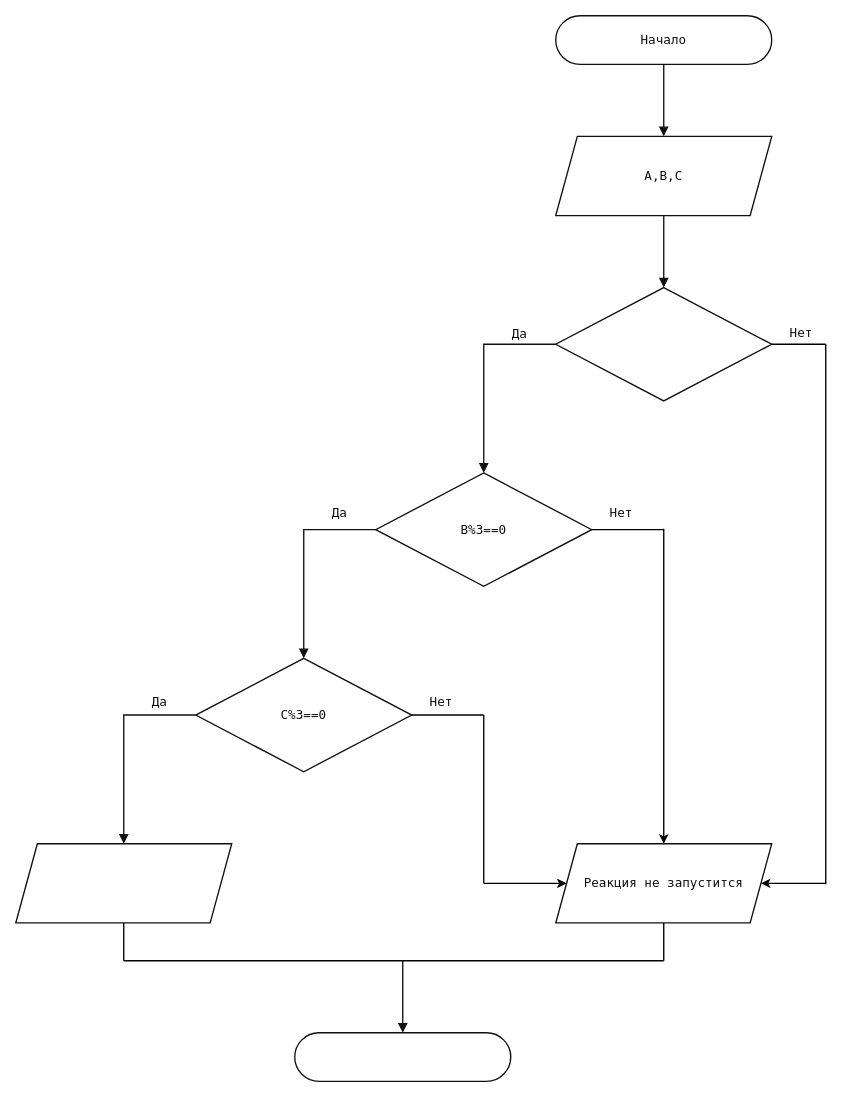
The diagram is 850 pixels wide and 1098 high, and some of its shapes have lost their labels. The shapes that lost their labels are listed below. From the top down, each one's centre as x and y in pixels, then its label:
At (663,343): "A%3==0".
At (123,883): "Реакция запустится".
At (402,1057): "Конец".
